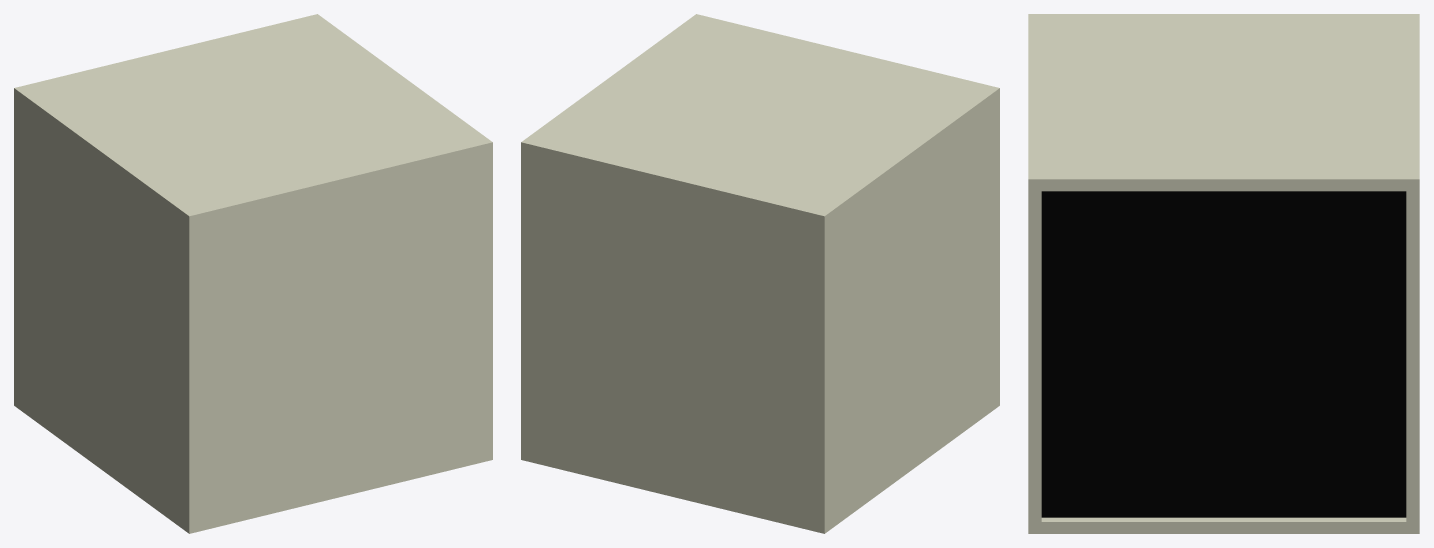
File: BIGTERMINAL.glb
3 views of the same model, side by side, from view 1: azimuth 30°, elevation 25°; view 2: azimuth 150°, elevation 25°; view 3: azimuth 270°, elevation 25° (orthographic). The views are drawn at different scales.
Visible parts, largest first — view 1: Cube; view 2: Cube; view 3: ScreenPC, Cube.
Boxes of the visible parts, x1=… form: Cube: x1=14, y1=14, x2=492, y2=533; Cube: x1=521, y1=14, x2=999, y2=533; ScreenPC: x1=1029, y1=191, x2=1418, y2=533; Cube: x1=1028, y1=14, x2=1419, y2=533.
Bounding box in the file's own units: 0.762 × 0.762 × 0.762.
